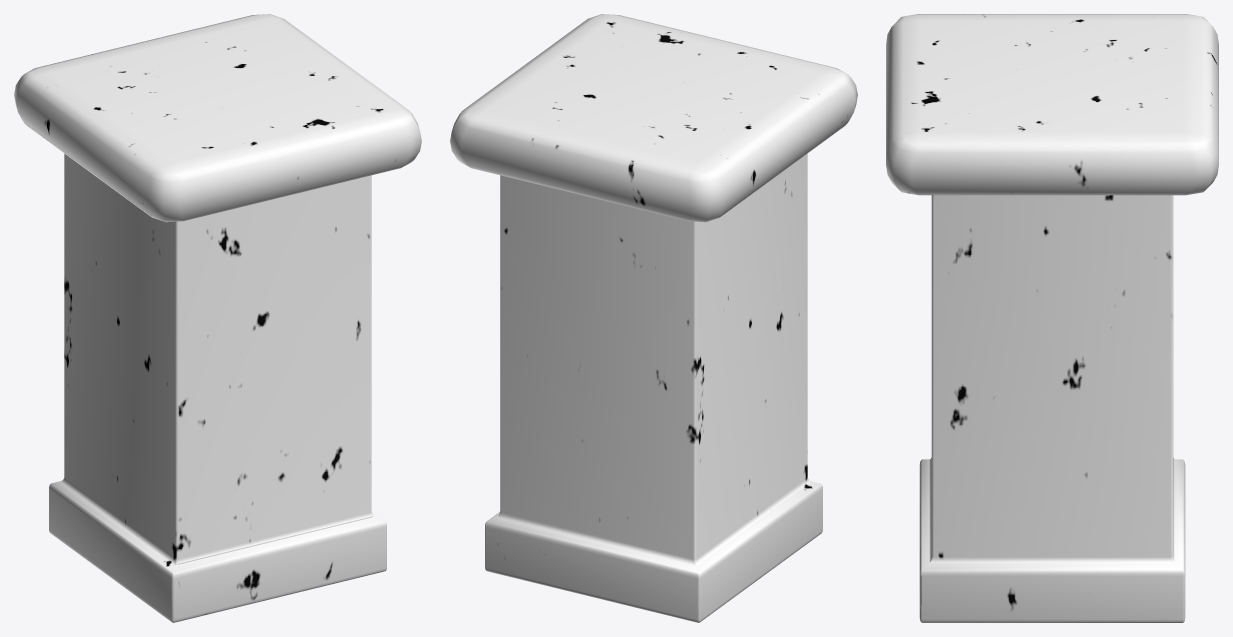
File: stand.gltf
3 views of the same model, side by side, from view 1: azimuth 30°, elevation 25°; view 2: azimuth 150°, elevation 25°; view 3: azimuth 270°, elevation 25° (orthographic). The views are drawn at different scales.
Parts seen in each view (by area): view 1: Cube; view 2: Cube; view 3: Cube.
Boxes of the visible parts, x1=… form: Cube: x1=14, y1=14, x2=421, y2=622; Cube: x1=450, y1=14, x2=857, y2=622; Cube: x1=886, y1=14, x2=1218, y2=622.
Bounding box in the file's own units: 0.6893 × 1.12 × 0.6893.
Materials: 1 (1 with a texture image).
